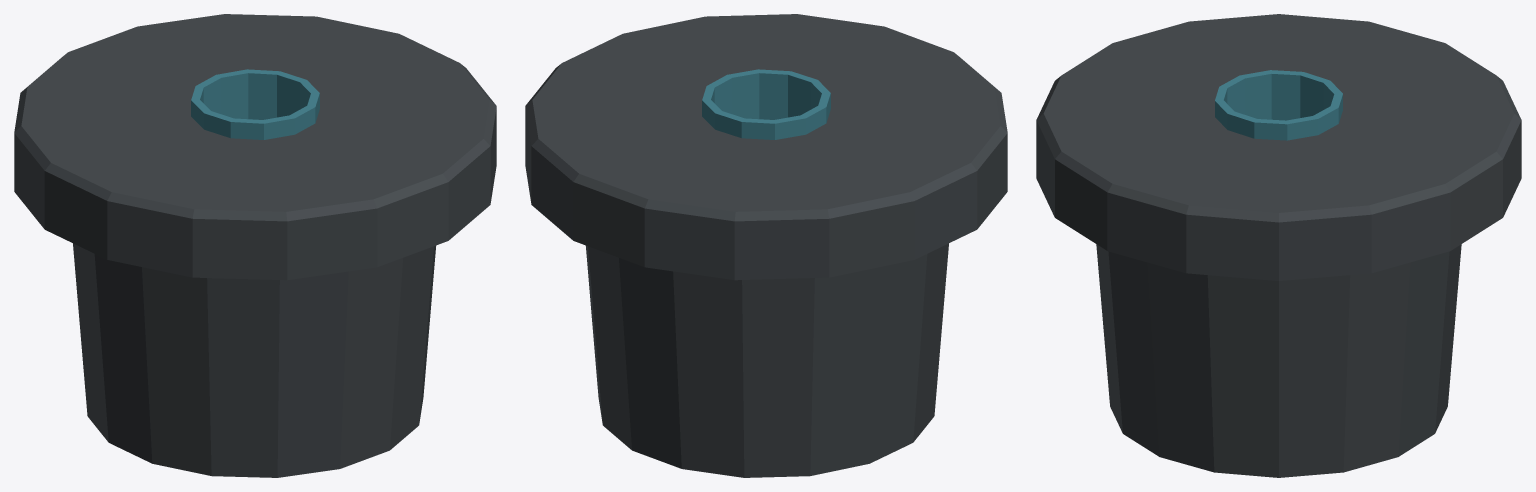
The model's file is VLAB_stopper.fbx.
The picture shows the model from 3 angles, left to right: view 1: azimuth 30°, elevation 25°; view 2: azimuth 150°, elevation 25°; view 3: azimuth 270°, elevation 25°; orthographic projection.
Visible parts, largest first — view 1: VLAB_stopper_Stopper_VIS, VLAB_stopper_Port1_VIS; view 2: VLAB_stopper_Stopper_VIS, VLAB_stopper_Port1_VIS; view 3: VLAB_stopper_Stopper_VIS, VLAB_stopper_Port1_VIS.
Part boxes in pixels (x1,y1,x2,y2): VLAB_stopper_Stopper_VIS: [14, 14, 496, 477]; VLAB_stopper_Port1_VIS: [191, 69, 319, 139]; VLAB_stopper_Stopper_VIS: [525, 14, 1007, 477]; VLAB_stopper_Port1_VIS: [702, 69, 830, 139]; VLAB_stopper_Stopper_VIS: [1036, 14, 1521, 477]; VLAB_stopper_Port1_VIS: [1215, 70, 1342, 140].
Size of the model in its own units: 0.027 by 0.019 by 0.027.
